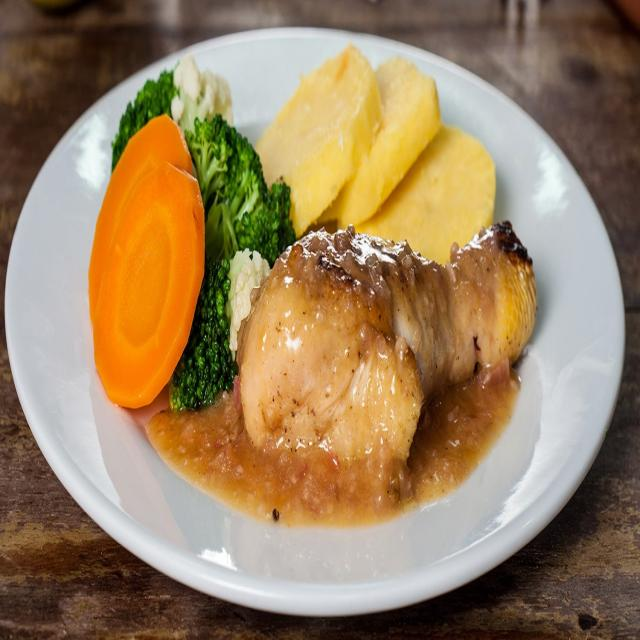pollo: (235, 226, 551, 466)
